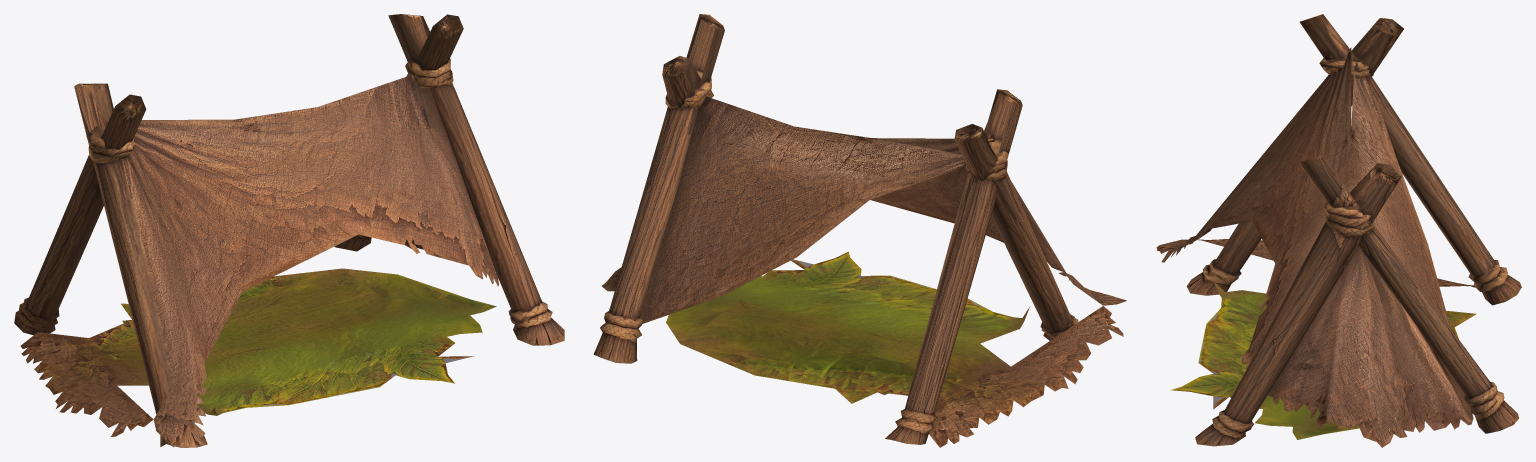
Rendered from leafbedtent.glb.
3 views of the same model, side by side, from view 1: azimuth 30°, elevation 25°; view 2: azimuth 150°, elevation 25°; view 3: azimuth 270°, elevation 25° (orthographic). The views are drawn at different scales.
Visible parts, largest first — view 1: tent; view 2: tent; view 3: tent.
Part boxes in pixels (<box>): tent: <box>14,14,564,447</box>; tent: <box>593,14,1126,447</box>; tent: <box>1156,14,1521,447</box>.
Bounding box in the file's own units: 1.49 × 0.95 × 1.09.
Materials: 1 (1 with a texture image).
